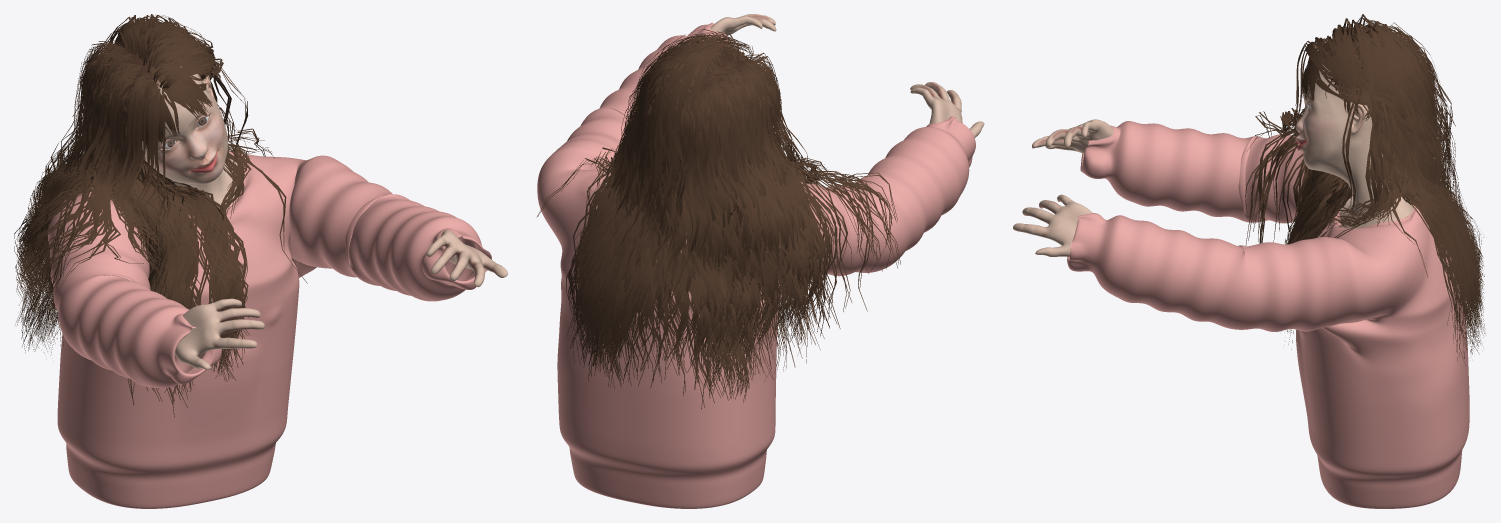
File: character.glb
The picture shows the model from 3 angles, left to right: view 1: azimuth 30°, elevation 25°; view 2: azimuth 150°, elevation 25°; view 3: azimuth 270°, elevation 25°; orthographic projection. The views are drawn at different scales.
Parts seen in each view (by area): view 1: Sweater, Hair_Export_Proxy, Body; view 2: Hair_Export_Proxy, Sweater, Body; view 3: Sweater, Hair_Export_Proxy, Body.
Part boxes in pixels (box(x1,y1,x2,y2)): Sweater: box(48, 150, 491, 508); Hair_Export_Proxy: box(14, 14, 307, 417); Body: box(117, 45, 507, 369); Hair_Export_Proxy: box(536, 29, 900, 409); Sweater: box(537, 22, 975, 508); Body: box(605, 14, 984, 184); Sweater: box(1067, 121, 1469, 508); Hair_Export_Proxy: box(1245, 14, 1485, 366); Body: box(1013, 40, 1413, 256).
Size of the model in its own units: 0.6515 by 0.8113 by 0.7954.
Materials: 8 (2 with a texture image).
